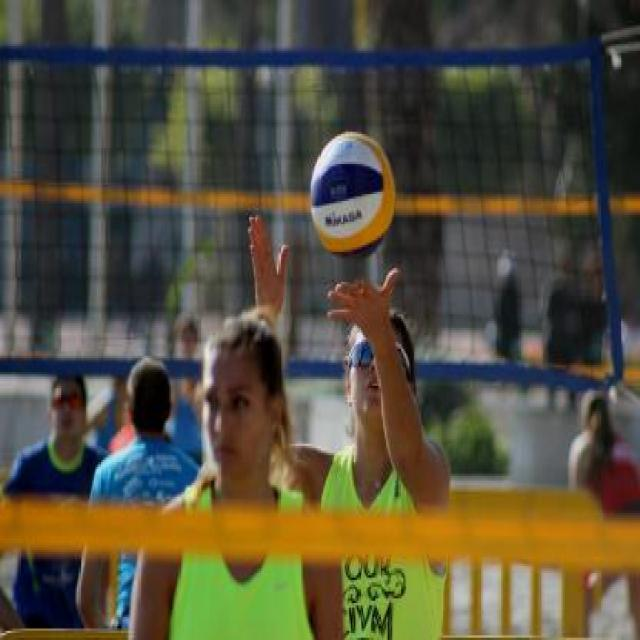volleyball: (309, 132, 399, 260)
